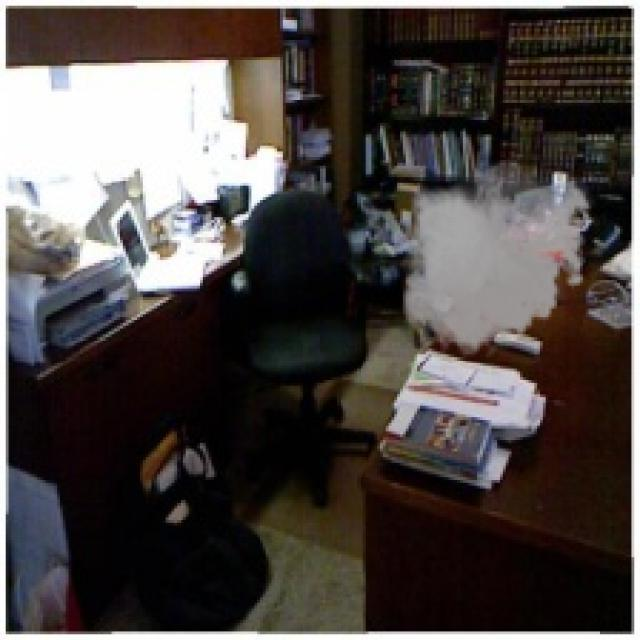Smoke: (394, 151, 597, 363)
